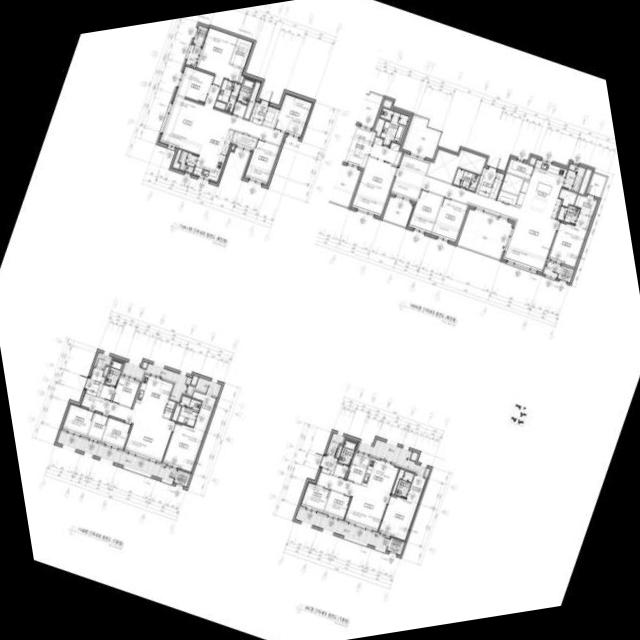background: (0, 0, 640, 640)
space_balconi: (56, 431, 176, 483), (295, 508, 389, 550), (121, 361, 193, 403), (457, 209, 512, 259), (357, 439, 429, 476), (401, 115, 441, 159), (382, 196, 413, 227), (562, 164, 585, 192), (586, 173, 606, 198), (195, 377, 221, 396), (178, 150, 197, 173), (326, 433, 344, 456), (185, 44, 200, 66), (94, 352, 112, 369), (543, 261, 560, 278)
space_bedroom: (195, 28, 243, 86), (351, 157, 397, 216), (548, 213, 591, 267), (162, 423, 205, 472), (378, 495, 417, 540), (274, 93, 312, 137), (431, 197, 467, 242), (244, 139, 280, 184), (408, 190, 442, 233), (176, 66, 213, 103), (61, 404, 94, 437), (100, 418, 130, 449), (300, 483, 330, 513), (111, 375, 139, 407), (323, 491, 350, 520)
space_dressroom: (342, 125, 376, 168), (191, 391, 216, 432), (229, 38, 252, 68), (406, 475, 425, 504), (574, 194, 596, 216)
space_front: (475, 168, 496, 197), (85, 367, 105, 397), (249, 101, 268, 125), (320, 455, 337, 475)
space_kitchen: (515, 159, 567, 219), (193, 123, 234, 182), (132, 374, 173, 418), (361, 457, 398, 495)
space_living_room: (390, 153, 559, 272), (159, 85, 284, 155), (80, 393, 174, 463), (316, 472, 389, 531)
space_other: (426, 149, 486, 184), (369, 137, 402, 165), (346, 452, 370, 484), (86, 413, 108, 442), (243, 82, 260, 119), (506, 159, 533, 179), (500, 173, 523, 195), (231, 131, 256, 150), (489, 172, 503, 199), (262, 106, 279, 128), (558, 189, 577, 207), (578, 169, 591, 195), (391, 469, 404, 494), (497, 191, 517, 205), (99, 384, 114, 400), (231, 102, 246, 118), (163, 400, 175, 419), (333, 464, 348, 479), (374, 118, 384, 136), (172, 149, 181, 169), (171, 403, 180, 421), (190, 375, 198, 386), (382, 100, 391, 108), (410, 452, 418, 461), (336, 446, 342, 458), (529, 157, 536, 165), (103, 366, 108, 376), (141, 362, 147, 368), (239, 75, 243, 83), (231, 146, 234, 150)
space_outdoor_room: (192, 25, 207, 46), (557, 265, 574, 283), (386, 538, 404, 555), (173, 470, 190, 487)
space_toilet: (379, 108, 408, 146), (214, 79, 240, 112), (177, 396, 201, 426), (452, 168, 479, 191), (104, 360, 123, 387), (394, 471, 413, 498), (236, 78, 254, 104), (338, 440, 356, 466), (557, 205, 579, 224)
